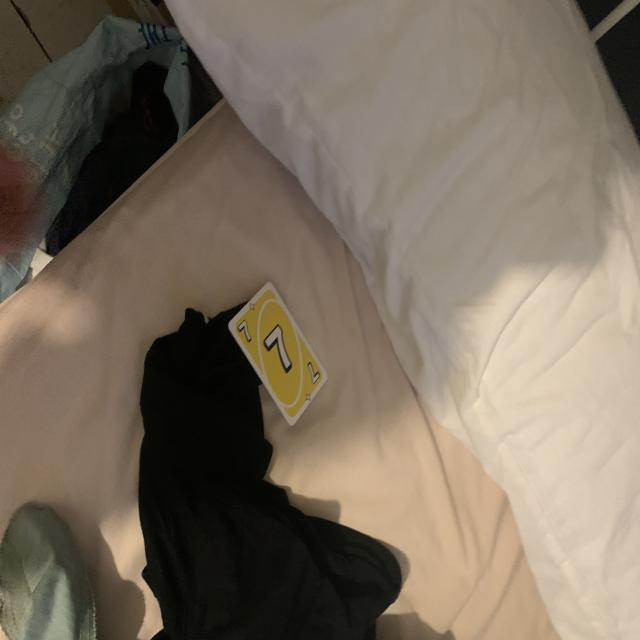lyellow-7: (236, 317, 253, 345)
